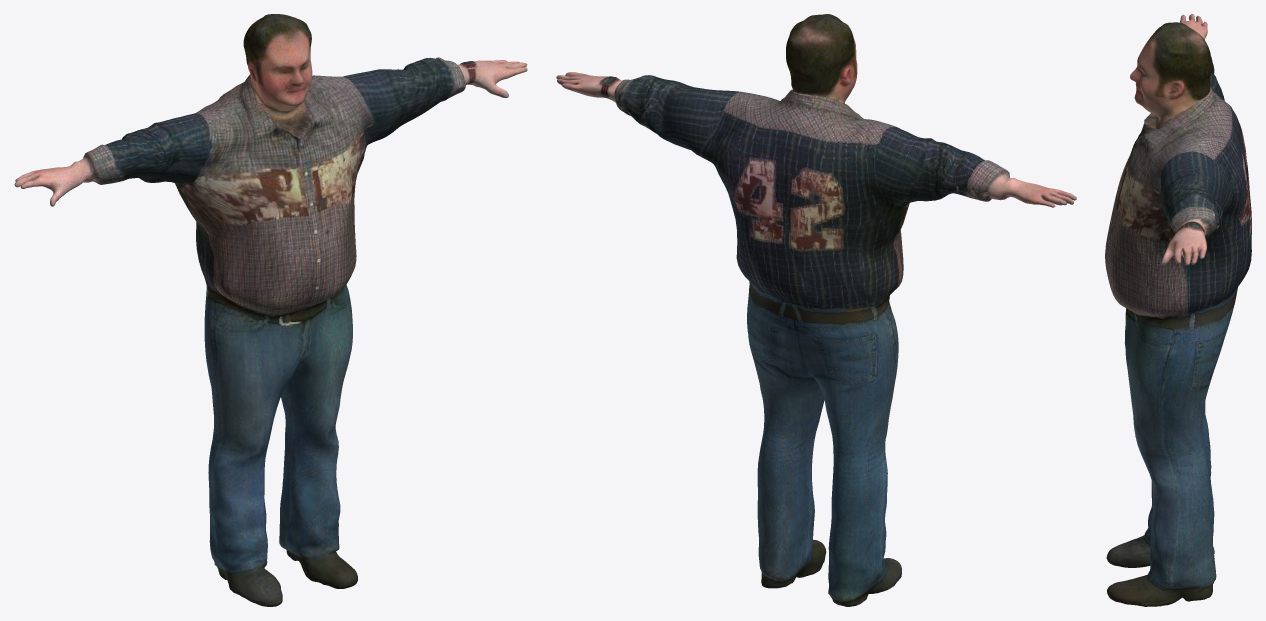
Rendered from pete_bl.fbx.
3 renders of one model, left to right at view 1: azimuth 30°, elevation 25°; view 2: azimuth 150°, elevation 25°; view 3: azimuth 270°, elevation 25°, orthographic. The views are drawn at different scales.
Visible parts, largest first — view 1: pete_body:polySurface1; view 2: pete_body:polySurface1; view 3: pete_body:polySurface1.
Boxes of the visible parts, <box> form: pete_body:polySurface1: <box>14,14,527,606</box>; pete_body:polySurface1: <box>556,14,1076,606</box>; pete_body:polySurface1: <box>1105,14,1251,606</box>.
Bounding box in the file's own units: 168 × 176 × 42.28.
